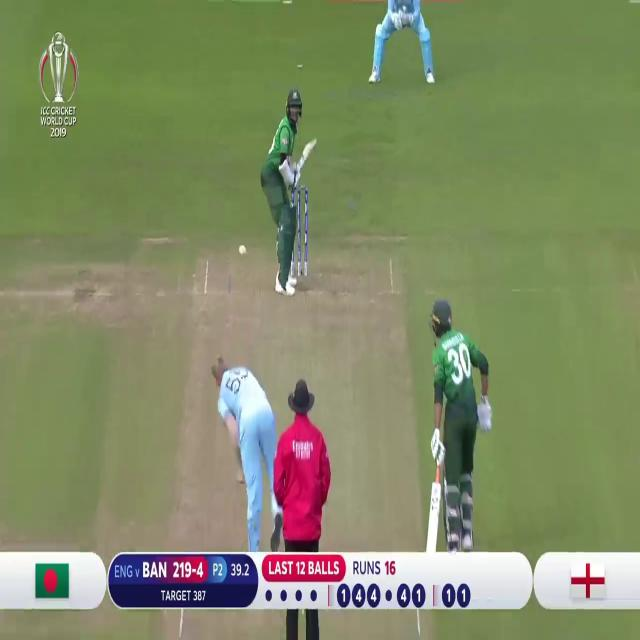ball: (236, 241, 248, 259)
